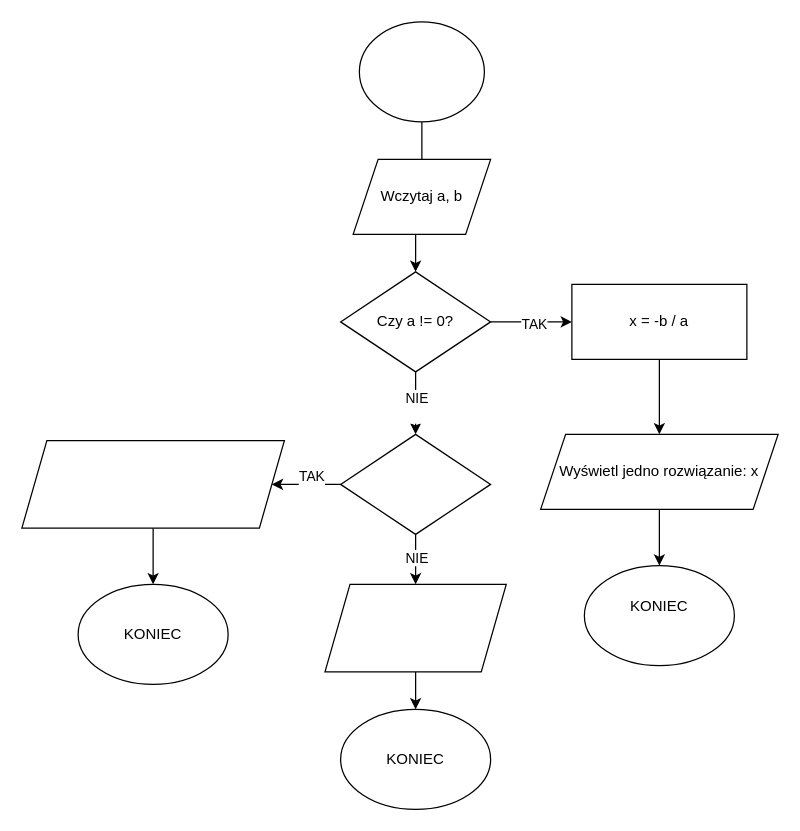
Image size: 800x831. Some labels were removed from this diagram. The centre of each missing label's shape, as x and y in pixels:
"Brak rozwiązań" goes at point (415, 627).
"Czy b == 0?" goes at point (415, 483).
"Nieskończenie wiele rozwiązań" goes at point (152, 483).
"START" goes at point (421, 71).
